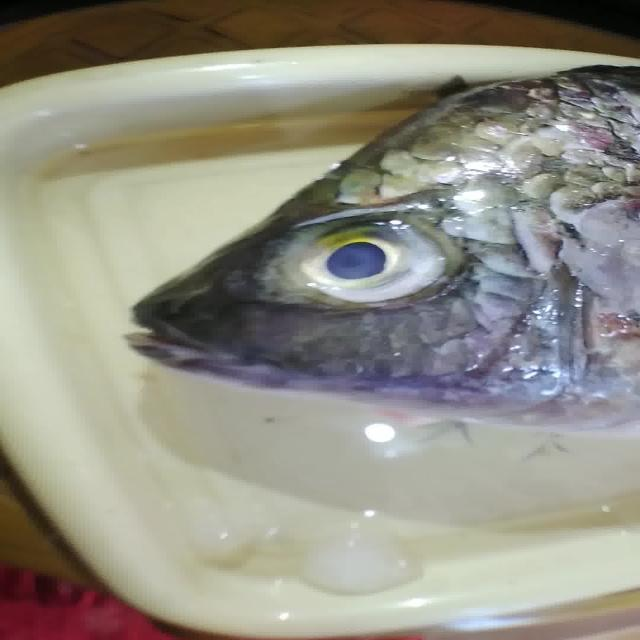Fresh: (265, 204, 493, 324)
